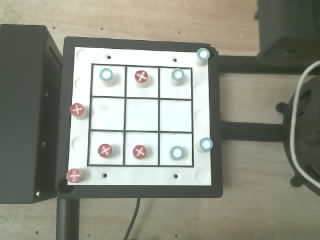blue circle: (170, 146, 183, 159), (200, 137, 212, 151), (197, 48, 210, 60), (99, 68, 112, 80), (172, 69, 184, 81)
board: (67, 47, 212, 185)
cells: (125, 132, 157, 165), (89, 132, 122, 164), (160, 133, 192, 165), (91, 98, 123, 129), (92, 65, 124, 96), (126, 99, 157, 130), (160, 100, 191, 131), (127, 67, 158, 97), (160, 68, 191, 98)
grid: (87, 63, 193, 167)
red cross: (66, 169, 81, 183), (69, 103, 84, 116), (135, 70, 148, 83), (133, 145, 146, 158), (98, 144, 111, 157)
